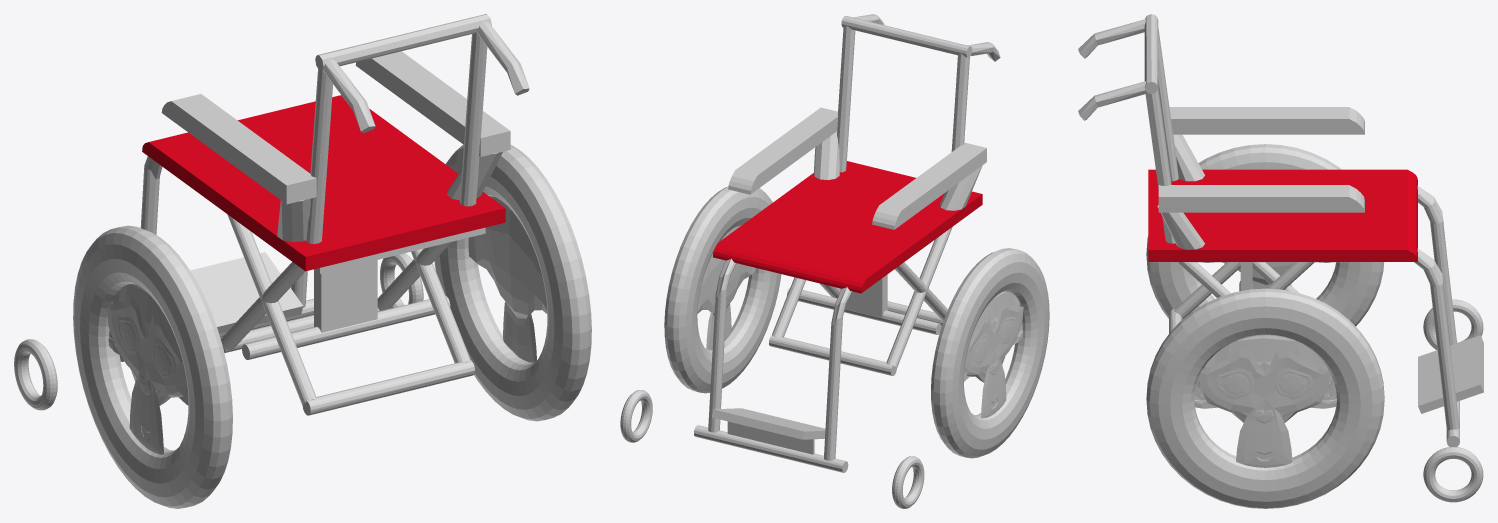
Rendered from kolelotonakusmeta.fbx.
3 renders of one model, left to right at view 1: azimuth 30°, elevation 25°; view 2: azimuth 150°, elevation 25°; view 3: azimuth 270°, elevation 25°, orthographic. The views are drawn at different scales.
Parts seen in each view (by area): view 1: Torus.005, Cube.003, Torus.001, Cube.005, Cube.004, Cube, Cube.006, Cylinder.011, Cylinder.014, Cylinder.004, Cylinder.006, Cylinder.005 (+13 smaller); view 2: Torus.005, Cube.003, Torus.001, Cube.005, Cube.004, Cylinder.003, Cylinder.001, Cylinder.002, Cube, Cylinder.010, Cylinder.004, Cylinder.006 (+11 smaller); view 3: Torus.001, Cube.003, Torus.005, Cube.004, Cube.005, Cube, Cylinder.001, Torus.004, Cylinder.003, Cylinder.004, Cylinder.005, Cylinder.006 (+8 smaller).
Boxes of the visible parts, x1,y1,x2,y2 form: Torus.005: (73, 225, 232, 508); Cube.003: (142, 95, 505, 271); Torus.001: (434, 145, 591, 421); Cube.005: (161, 94, 316, 204); Cube.004: (355, 51, 510, 156); Cube: (190, 252, 303, 333); Cube.006: (314, 260, 377, 332); Cylinder.011: (227, 214, 316, 405); Cylinder.014: (302, 360, 474, 415); Cylinder.004: (460, 33, 487, 206); Cylinder.006: (315, 14, 491, 70); Cylinder.005: (306, 69, 332, 243); Torus.005: (931, 248, 1049, 458); Cube.003: (713, 161, 982, 293); Torus.001: (664, 186, 781, 393); Cube.005: (872, 142, 986, 229); Cube.004: (728, 107, 838, 194); Cylinder.003: (824, 287, 852, 460); Cylinder.001: (708, 258, 736, 432); Cylinder.002: (694, 425, 848, 472); Cube: (712, 408, 825, 439); Cylinder.010: (886, 227, 952, 368); Cylinder.004: (837, 26, 855, 172); Cylinder.006: (841, 16, 972, 57); Torus.001: (1146, 288, 1384, 508); Cube.003: (1148, 169, 1417, 261); Torus.005: (1146, 144, 1384, 326); Cube.004: (1158, 185, 1364, 212); Cube.005: (1169, 107, 1364, 134); Cube: (1418, 335, 1483, 413); Cylinder.001: (1414, 248, 1459, 429); Torus.004: (1423, 447, 1483, 502); Cylinder.003: (1417, 185, 1456, 345); Cylinder.004: (1145, 88, 1174, 243); Cylinder.005: (1158, 28, 1178, 181); Cylinder.006: (1144, 14, 1158, 93).
Bounding box in the file's own units: 392 × 449 × 426.
